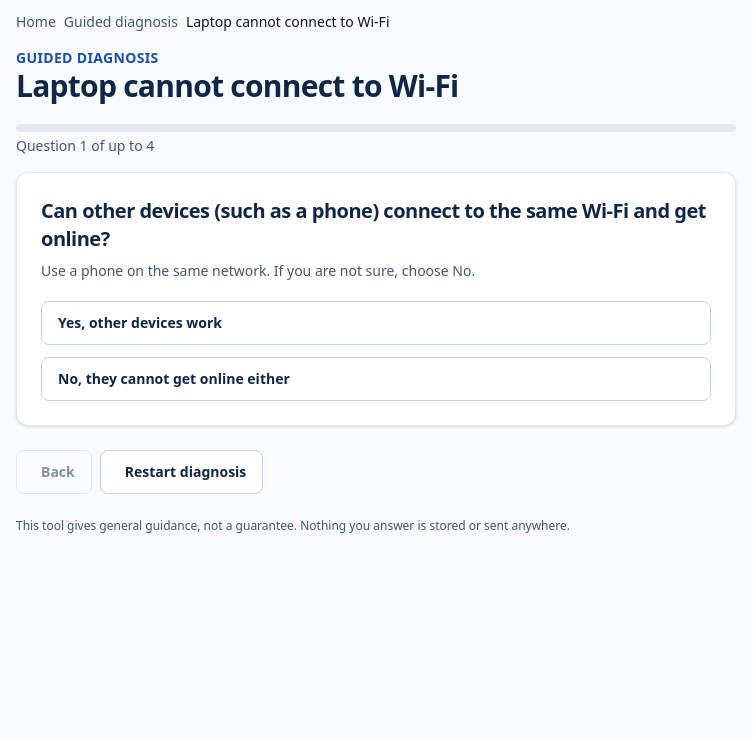
Test case: DiagnoseComponent (laptop-wifi flow) › follows answers to the right question and outcome
Click the button "Yes, other devices work": x=140, y=322 x1=41 y1=301 x2=711 y2=345
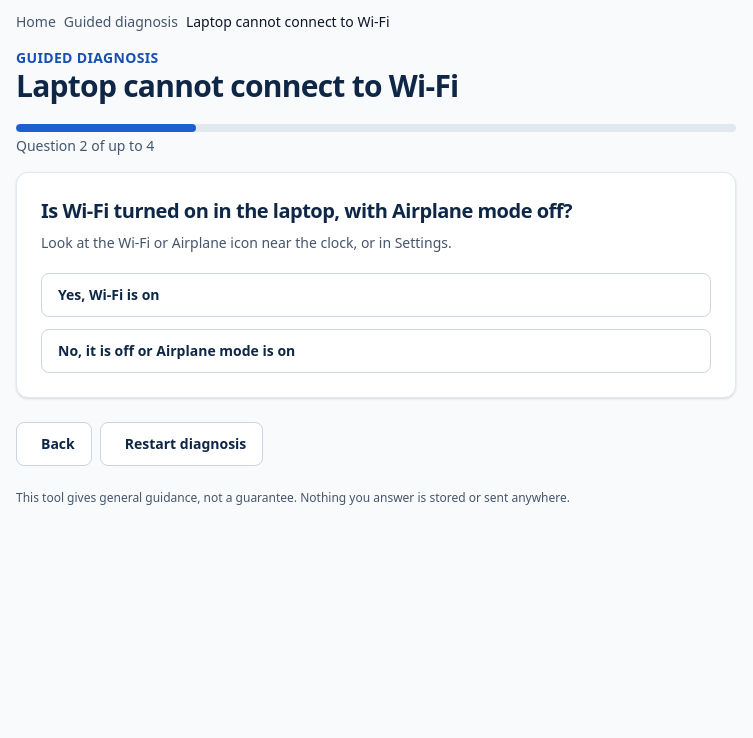
Check: the heading "Is Wi-Fi turned on in the laptop, with Airplane mode off?" is shown, box x1=41 y1=197 x2=572 y2=224
Click the button "Yes, Wi-Fi is on": x=109, y=294 x1=41 y1=273 x2=711 y2=317
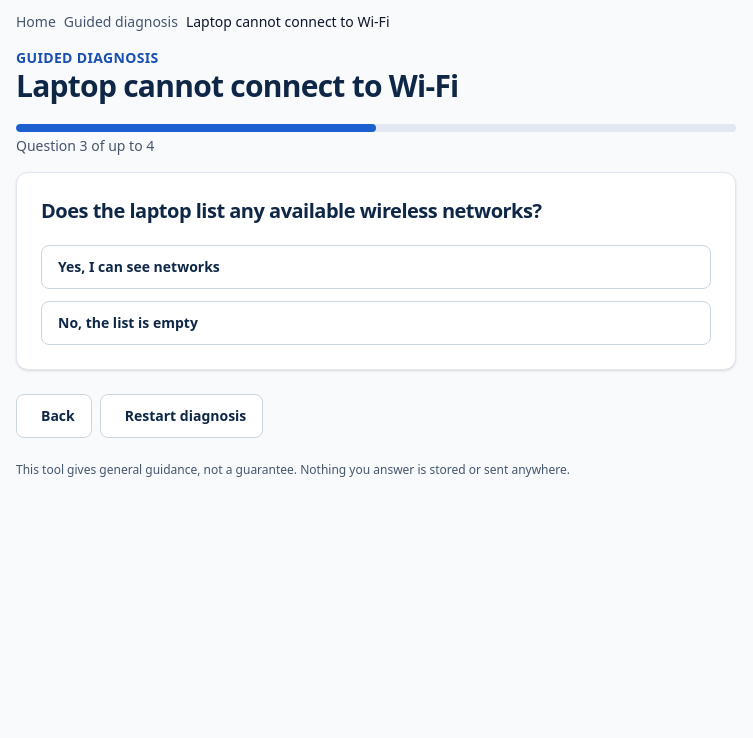
Click the button "No, the list is empty": x=128, y=322 x1=41 y1=301 x2=711 y2=345
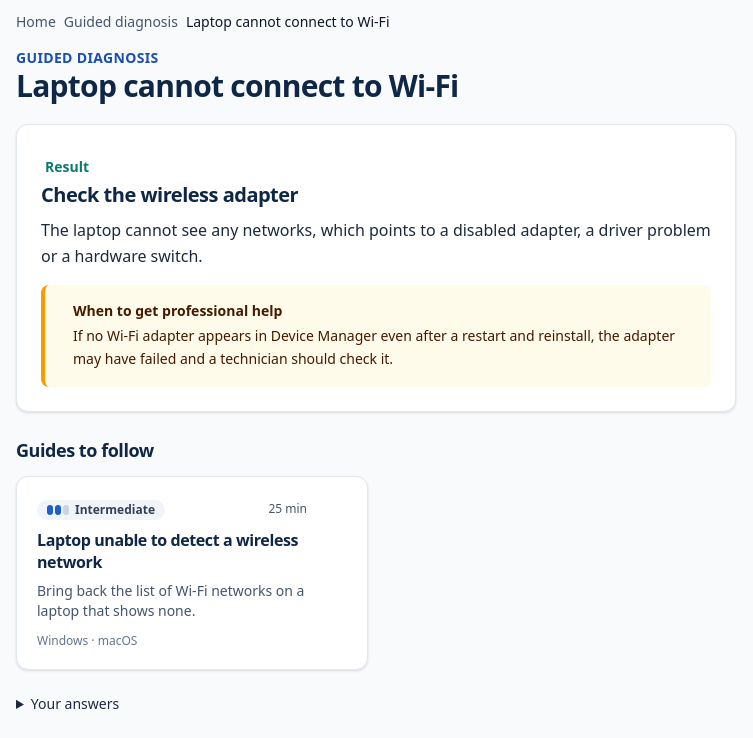
Check: the text "Check the wireless adapter" is shown, box x1=41 y1=181 x2=298 y2=208
Check: the text "When to get professional help" is shown, box x1=73 y1=301 x2=282 y2=320
Check: the element that starts with "intermediate" is shown, box x1=16 y1=476 x2=368 y2=670
